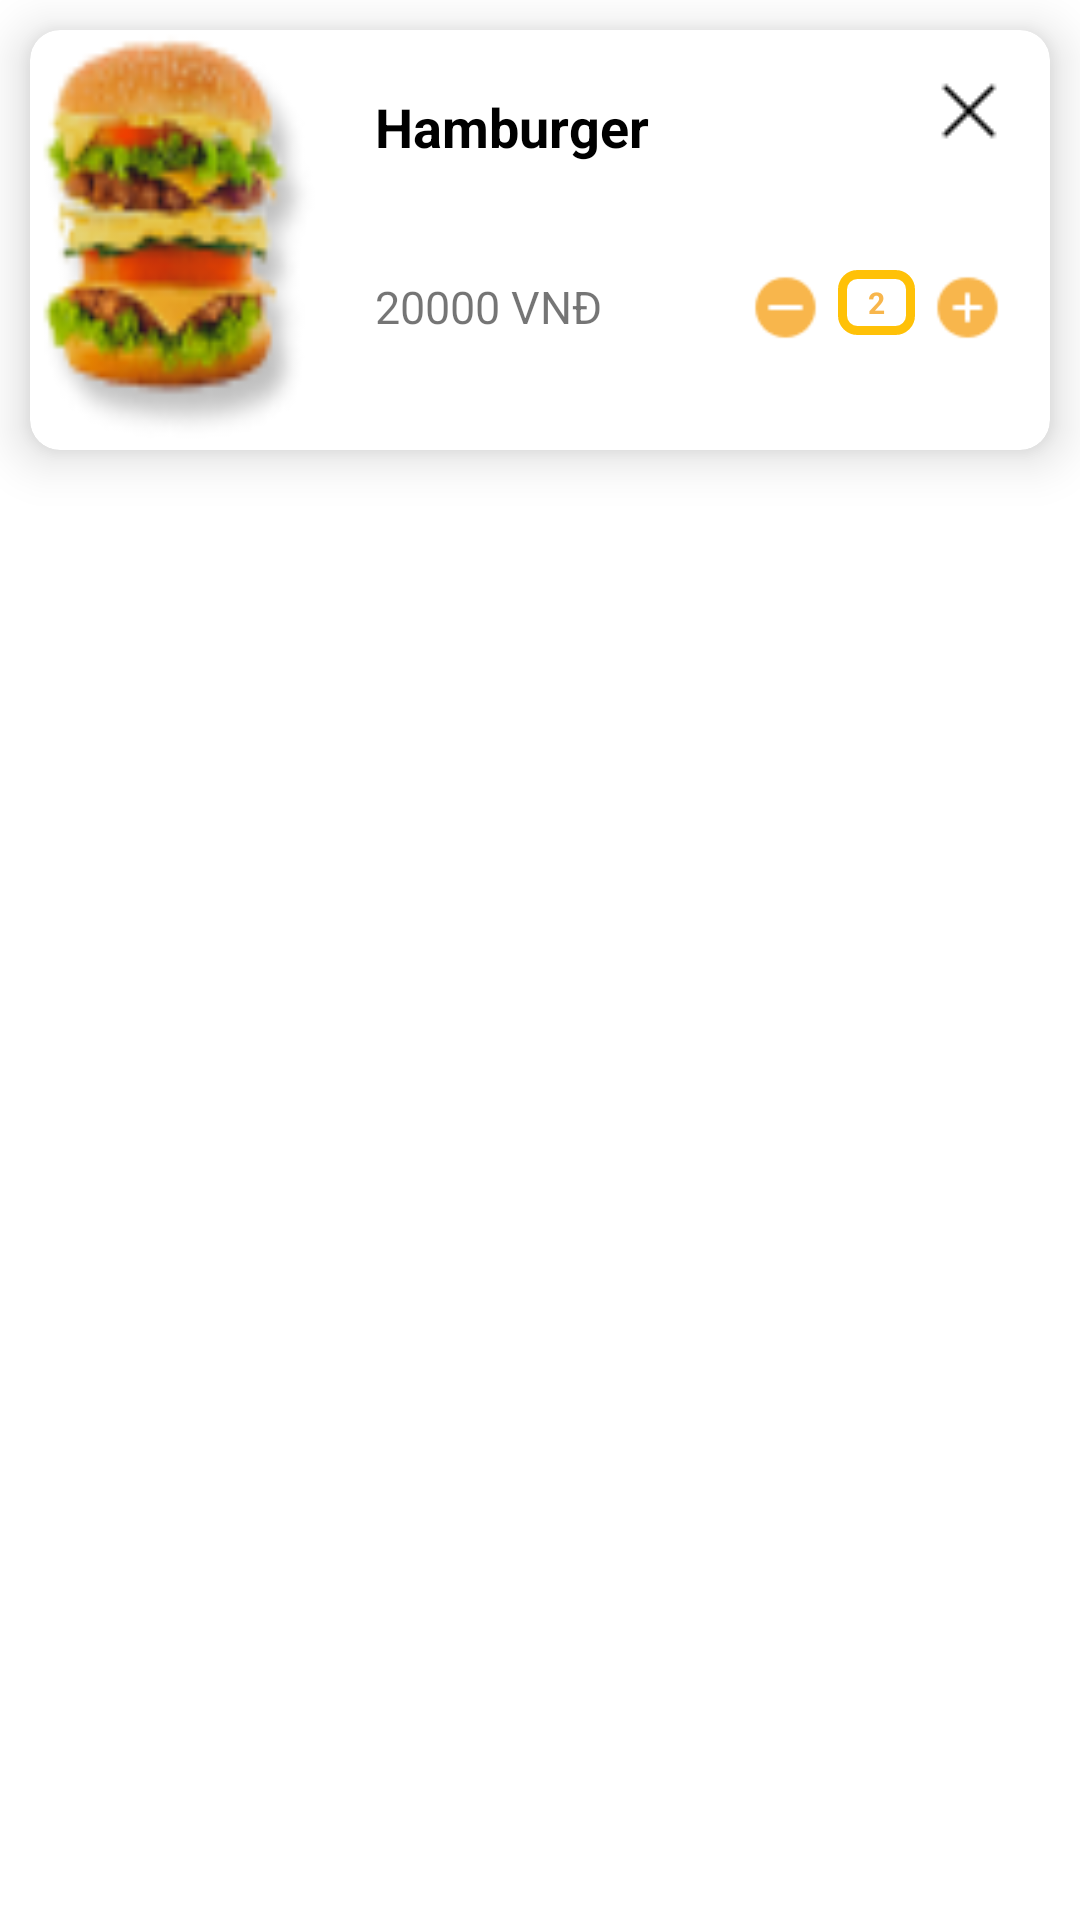

Icons on this 1080w x 1920h Android screen, each with the point to tap as (x,y):
delete: (969,111)
iconadd: (967,307)
iconminus: (785,307)
